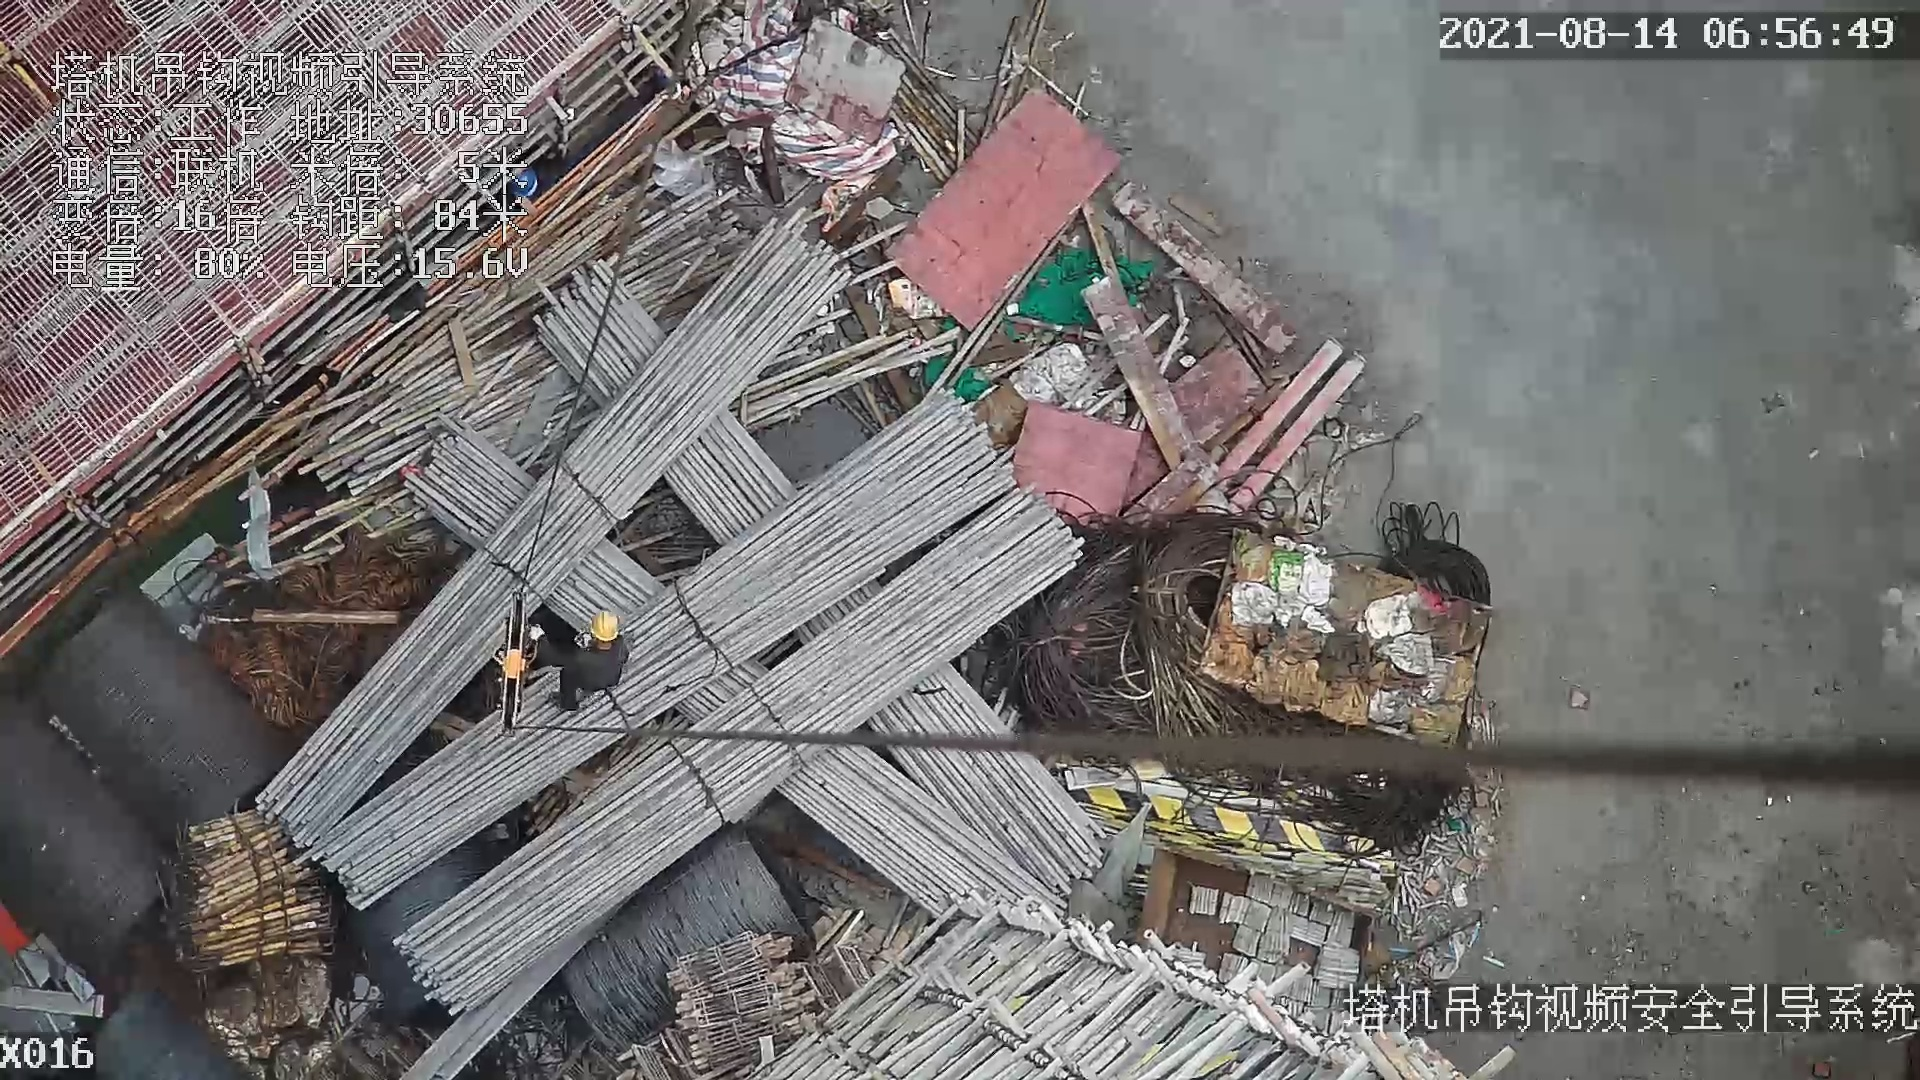helmet: (591, 611, 618, 642)
hook: (491, 583, 532, 737)
person: (531, 613, 637, 718)
rebar: (258, 218, 858, 843), (392, 488, 1086, 1014), (317, 392, 1017, 903), (866, 657, 1111, 887), (775, 741, 1032, 904)
wood: (185, 811, 332, 973)
